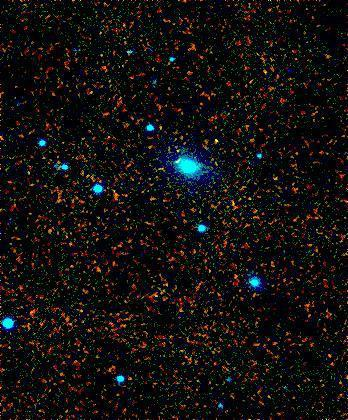star: (247, 57, 277, 87)
